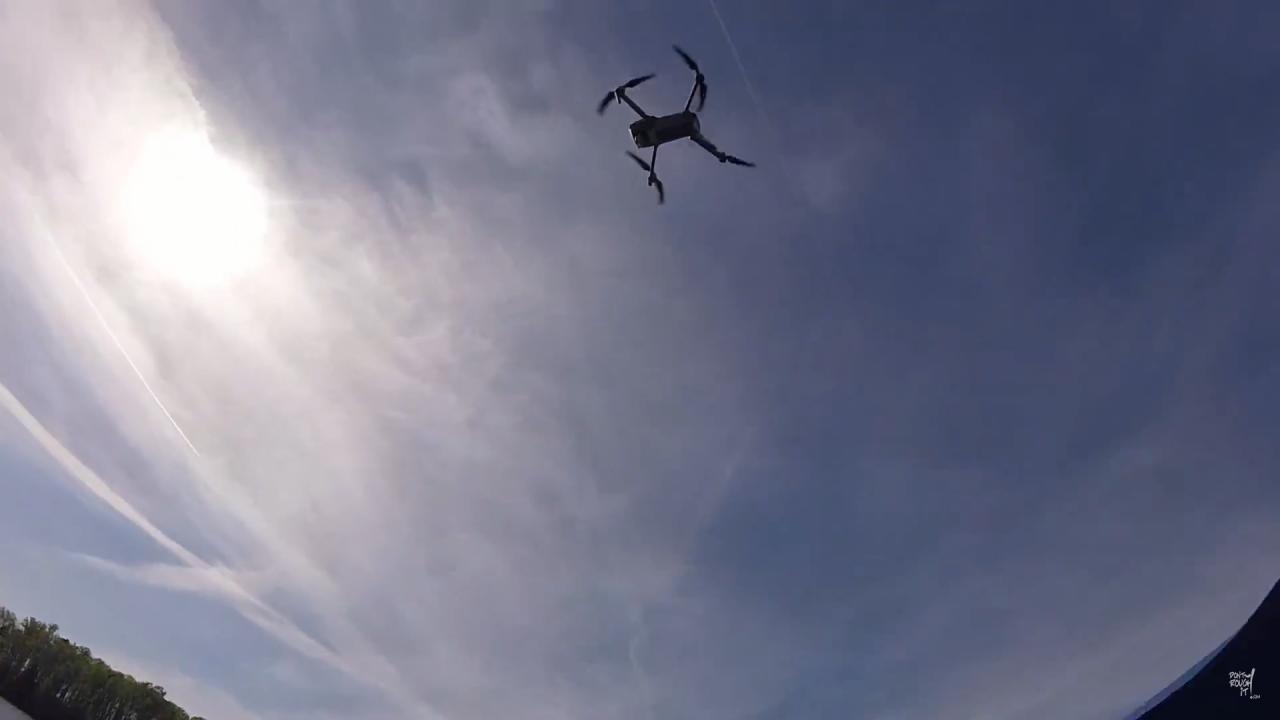Drone: (583, 37, 765, 215)
